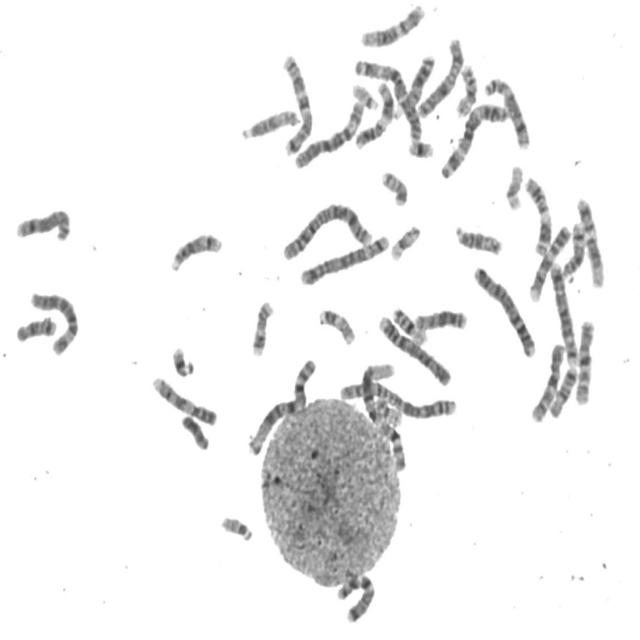A1: (244, 352, 319, 458), (358, 359, 412, 470)
A2: (279, 197, 373, 262), (336, 373, 459, 421)
A3: (351, 53, 426, 144), (437, 96, 511, 180)
B4: (470, 260, 539, 360), (374, 308, 454, 388)
B5: (296, 228, 392, 286), (547, 258, 580, 366)
C10: (528, 338, 566, 424), (572, 314, 598, 406)
C11: (351, 75, 397, 151), (521, 170, 555, 256)
C12: (357, 0, 427, 48), (574, 192, 608, 290)
C6: (292, 94, 367, 171), (27, 286, 81, 356)
C7: (278, 51, 315, 158), (333, 567, 378, 625)
C8: (480, 71, 532, 151), (12, 202, 73, 244)
C9: (148, 370, 220, 428), (526, 220, 574, 304)
D13: (390, 48, 437, 121), (412, 304, 470, 332)
D14: (167, 227, 224, 274), (560, 217, 588, 281)
D15: (237, 102, 300, 142), (452, 220, 504, 256)
E16: (389, 301, 431, 347), (452, 58, 480, 119)
E17: (315, 303, 357, 347), (248, 294, 276, 358)
E18: (546, 370, 580, 418), (12, 312, 58, 344)
F19: (387, 220, 423, 262), (502, 159, 526, 212)
F20: (378, 165, 410, 207), (372, 392, 404, 427)
G21: (168, 341, 197, 378), (405, 134, 436, 160)
G22: (217, 510, 255, 543), (349, 76, 381, 113)
X: (414, 32, 466, 120)
Y: (178, 408, 212, 452)
